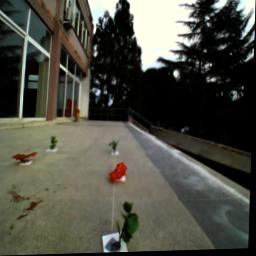herb: (119, 202, 142, 247), (111, 142, 120, 156), (51, 137, 59, 151)
wild: (111, 163, 130, 188), (14, 152, 40, 167)
